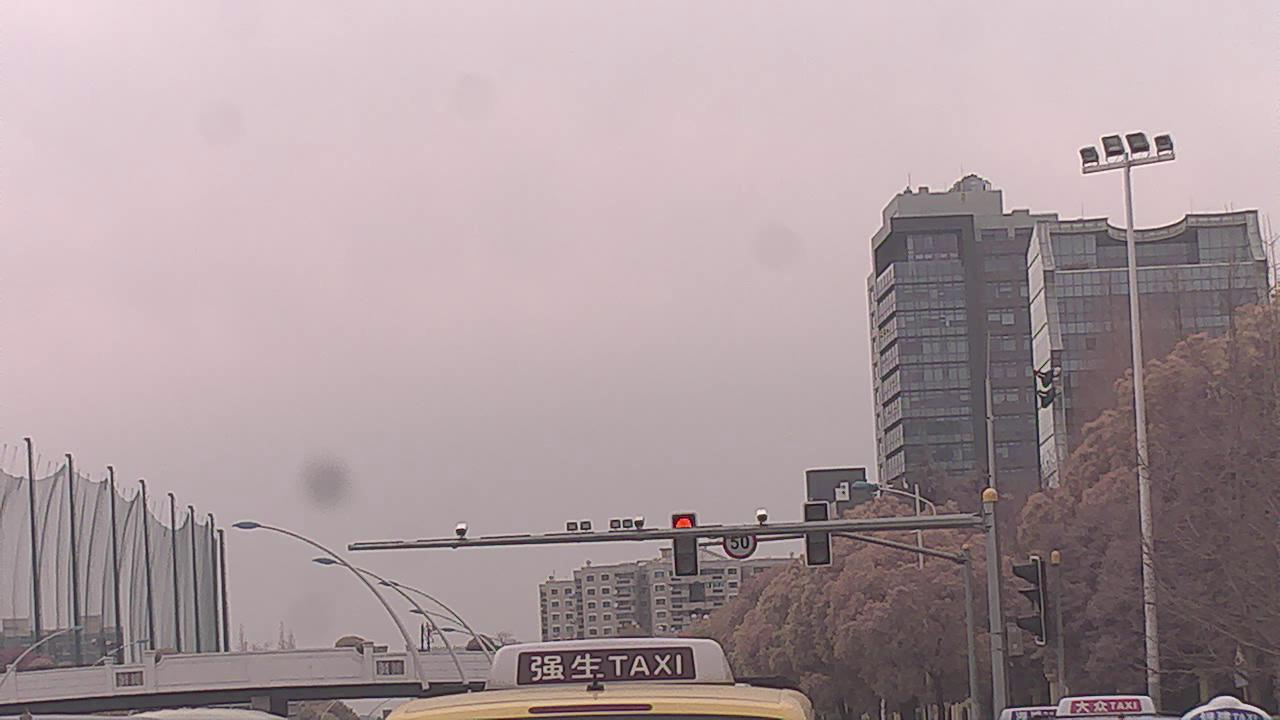traffic_light: (672, 514, 699, 580), (803, 504, 830, 567)
